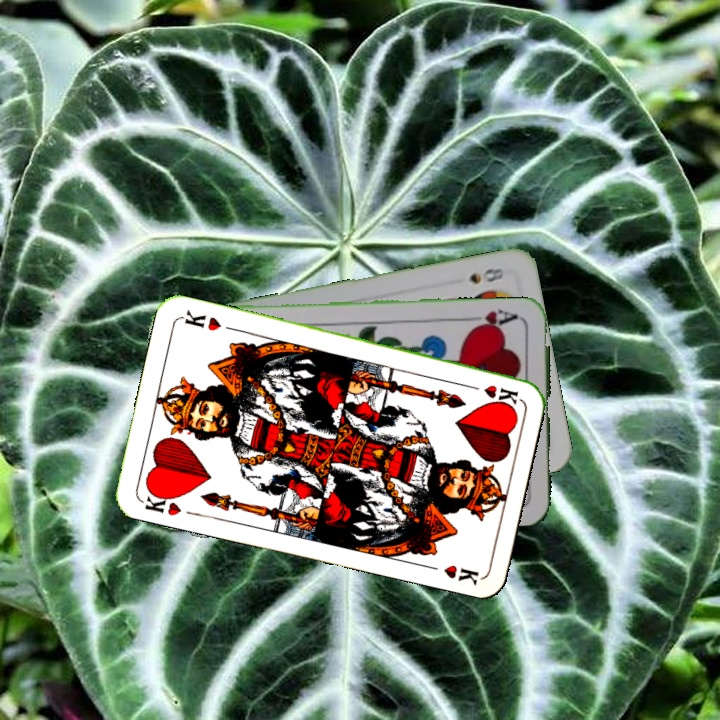HA: (463, 305, 520, 332)
HK: (462, 380, 521, 407), (141, 485, 184, 519)
S8: (465, 264, 507, 286)
